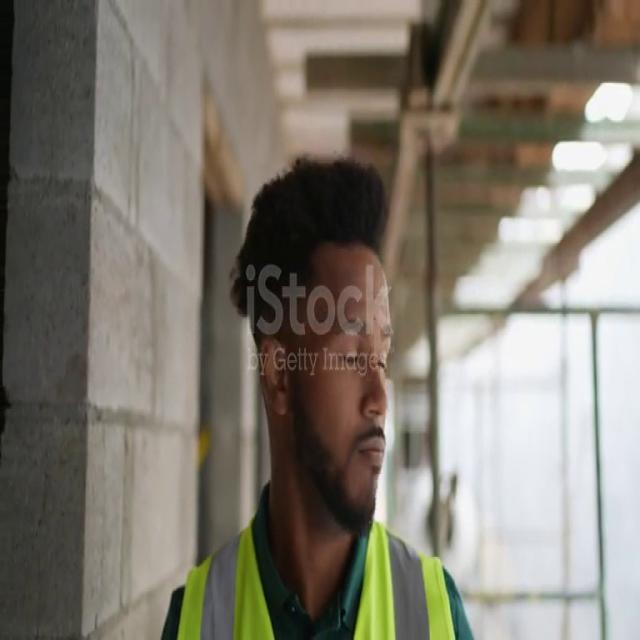sem_capacete: (215, 115, 403, 540)
